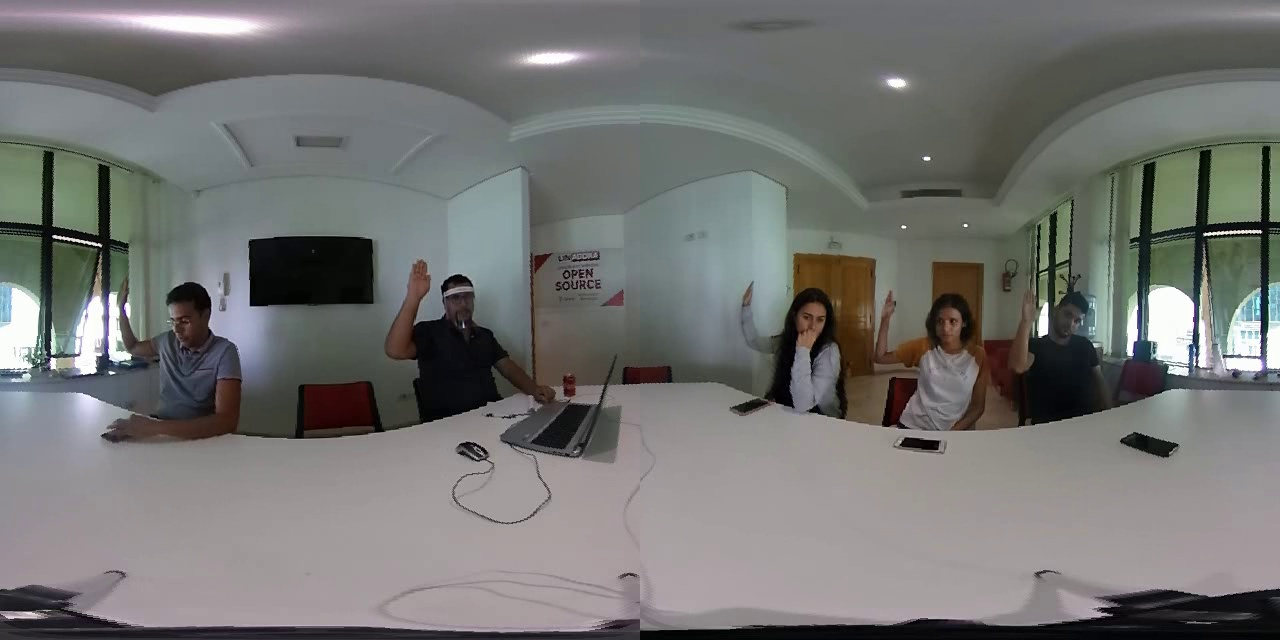person: (99, 270, 244, 472), (379, 257, 554, 416), (873, 279, 999, 429), (723, 272, 854, 415), (1009, 279, 1133, 422)
voting: (384, 258, 438, 367), (104, 279, 157, 369), (731, 275, 777, 363), (872, 287, 916, 371), (1009, 287, 1043, 373)
